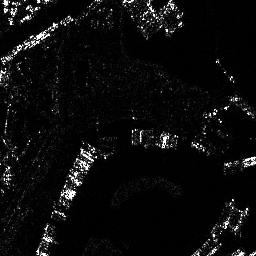ship: (212, 196, 235, 237), (1, 35, 33, 62), (223, 155, 256, 175), (230, 95, 256, 120), (215, 58, 235, 84)
